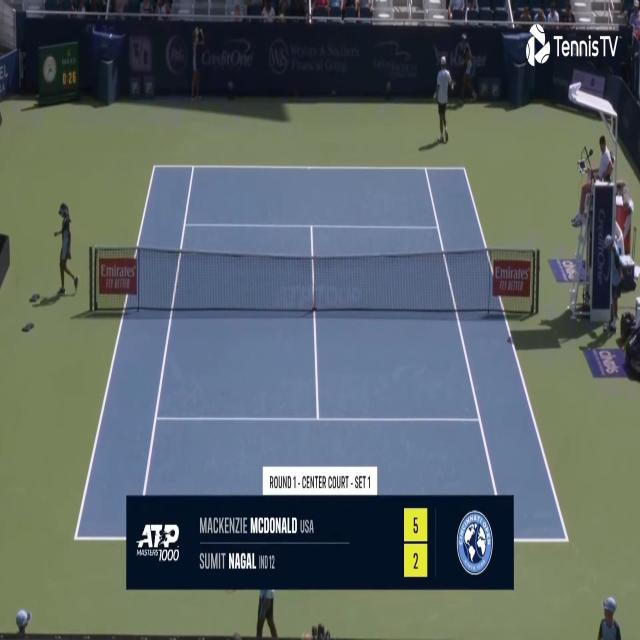tennis-player: (432, 54, 454, 146)
